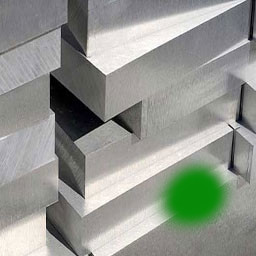focus: (155, 154, 230, 226)
